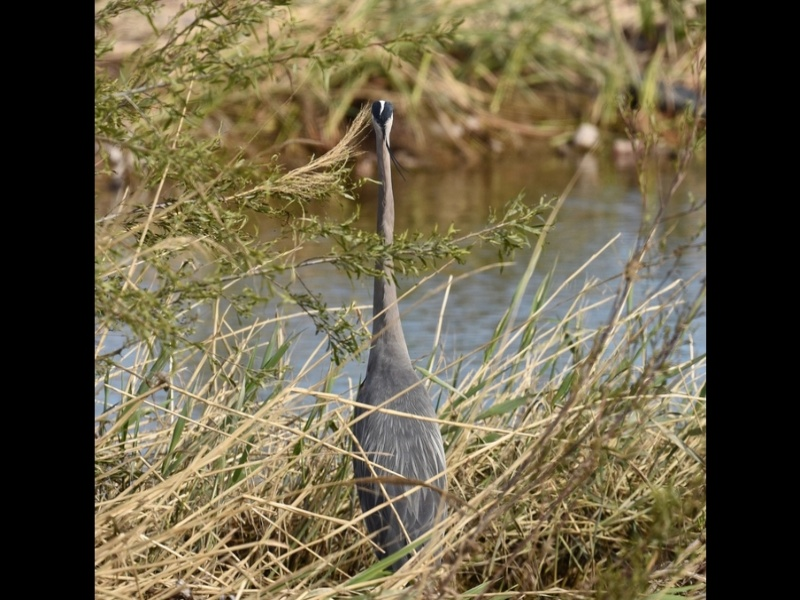heron: (338, 98, 452, 561)
